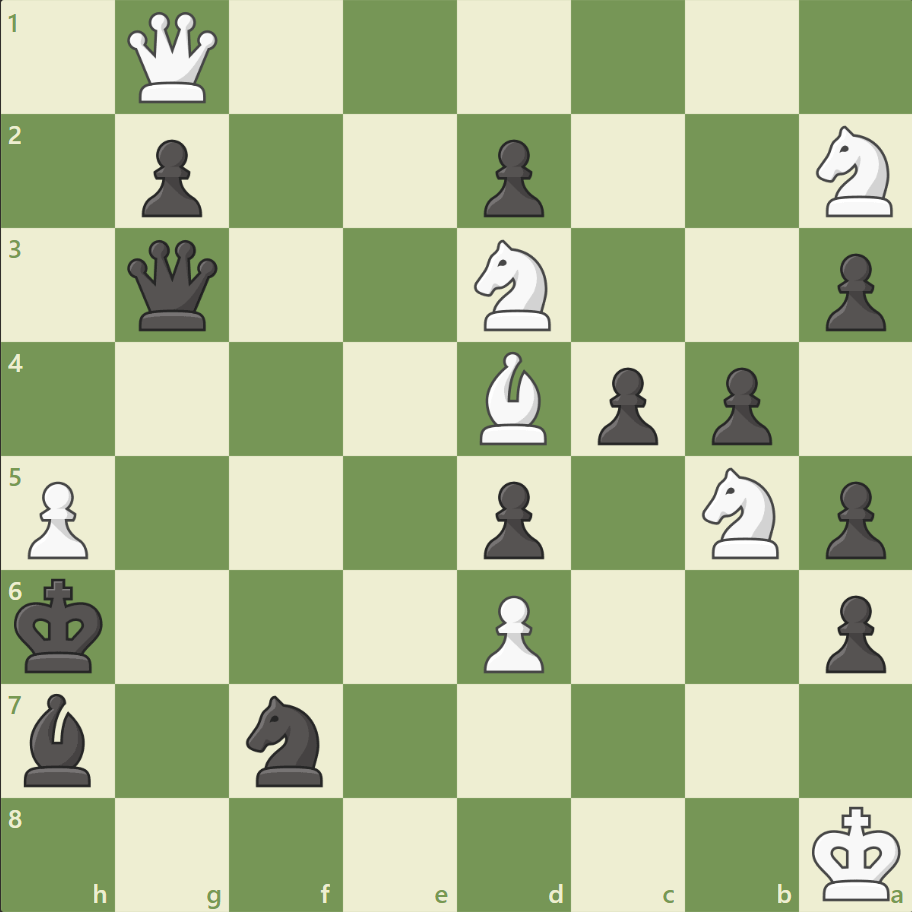B: (471, 347, 555, 449)
K: (806, 798, 906, 906)
N: (692, 461, 789, 564), (465, 234, 562, 337), (806, 121, 903, 223)
P: (474, 586, 549, 677), (20, 473, 95, 564)
Q: (124, 9, 223, 108)
b: (17, 687, 101, 790)
k: (11, 571, 111, 679)
n: (238, 688, 335, 791)
p: (474, 473, 549, 564), (701, 359, 776, 450), (474, 132, 549, 223), (133, 132, 208, 223), (815, 586, 889, 677), (815, 473, 889, 564), (588, 359, 662, 450), (815, 246, 889, 337)
q: (124, 236, 223, 335)
